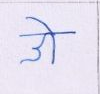e_matra: (25, 17, 56, 32)
